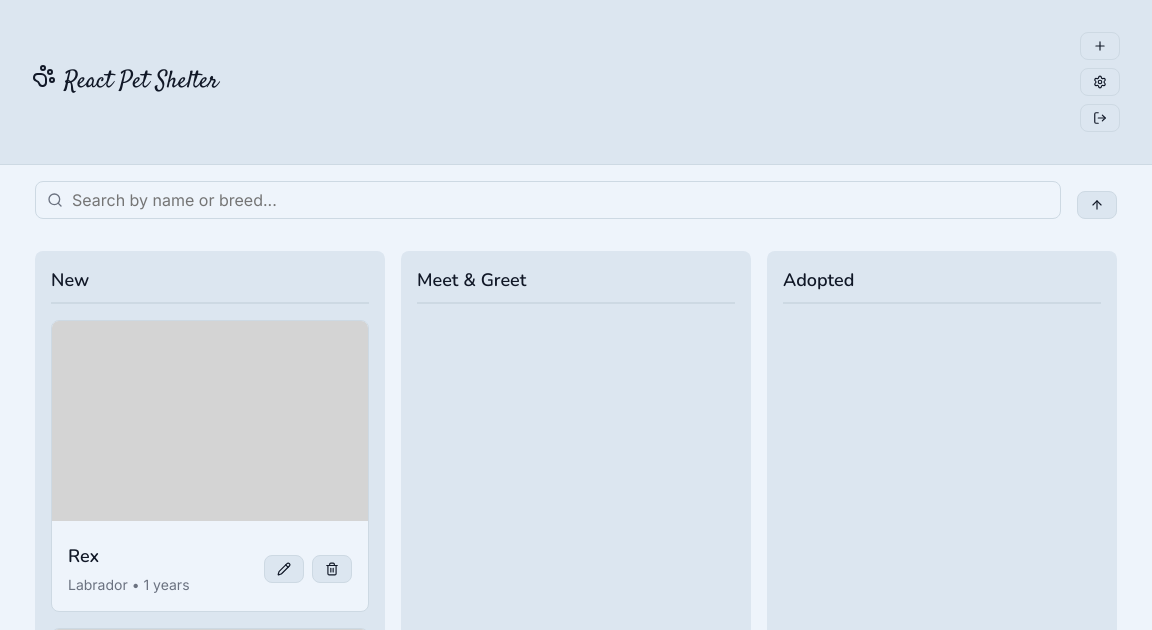
Scenario: App integration › opens add pet modal when add button is clicked
This screenshot has width=1152, height=630.
Click the button named "Add Pet": (1100, 46) [1080, 32, 1120, 60]
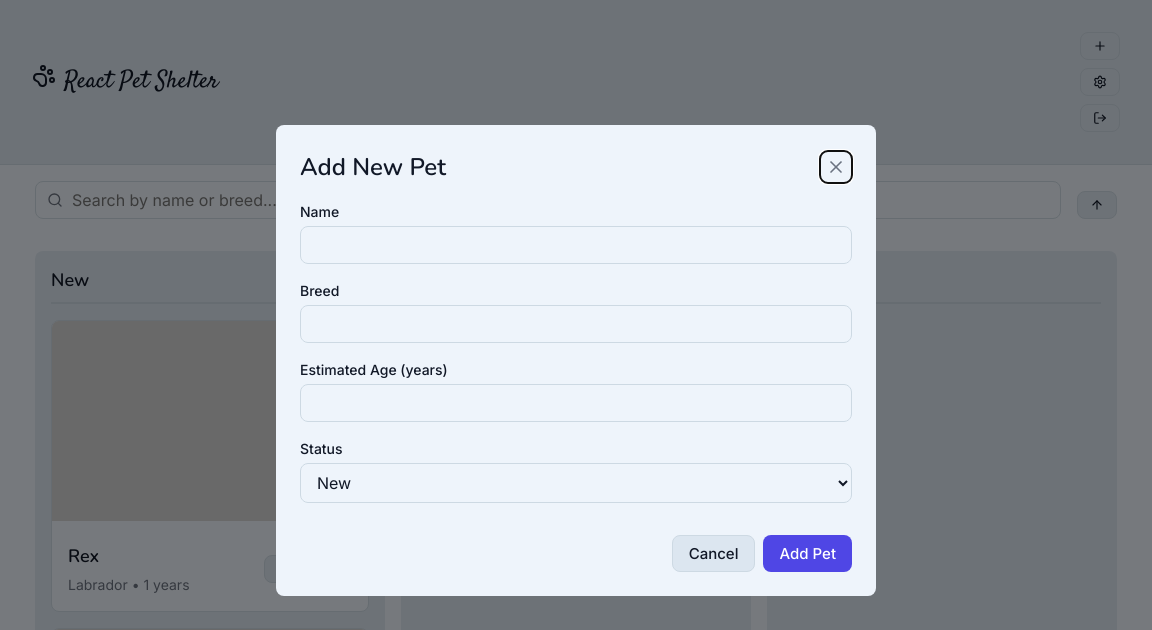
Result: the dialog is shown at [276, 124, 876, 596]
Result: the heading "Add New Pet" is shown at [300, 148, 446, 184]
